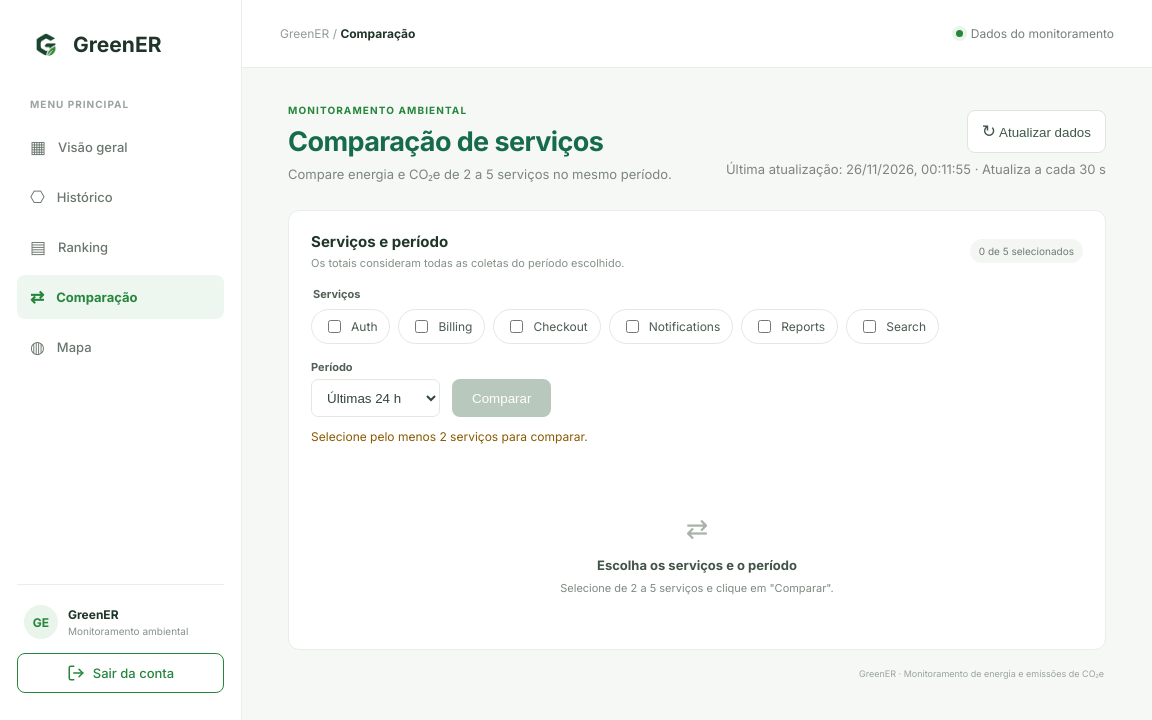
Test case: mostra os totais lado a lado e o aviso de serviço sem dados
What coordinates should you click on to do the following:
click the checkbox labelled "Auth"
I would click on:
 (335, 326)
Its box is [328,320,341,333].
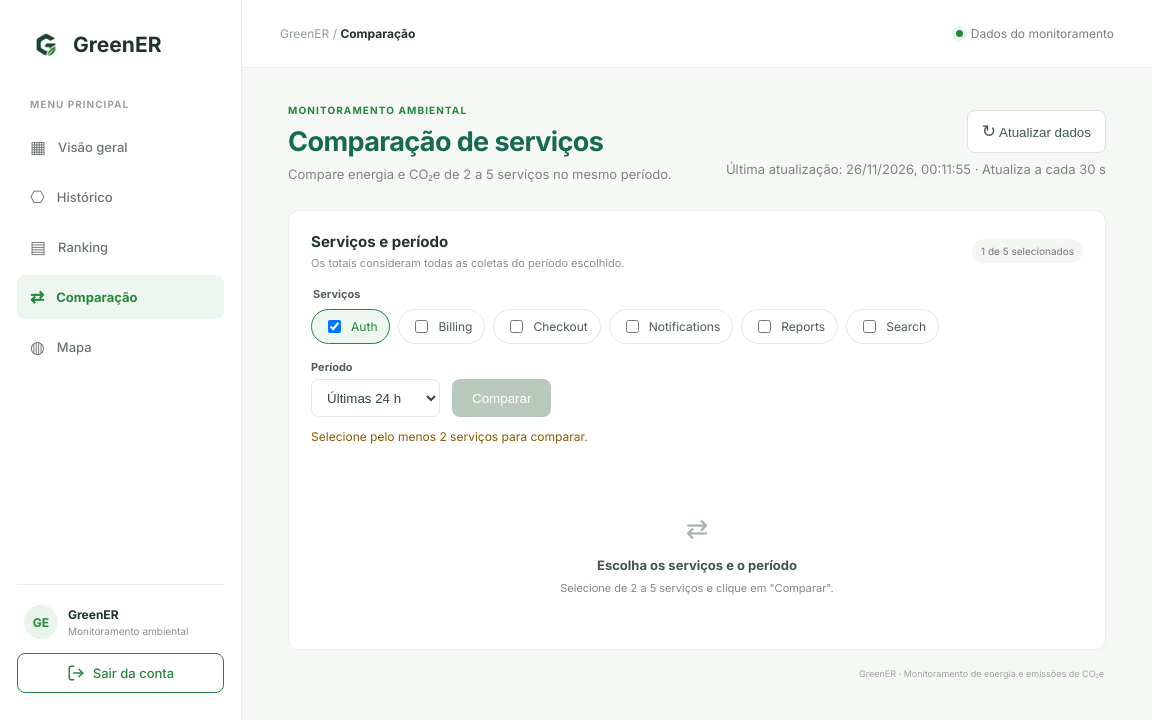
What coordinates should you click on to do the following:
click the checkbox labelled "Billing"
I would click on:
 (422, 326)
Its box is [416,320,428,333].
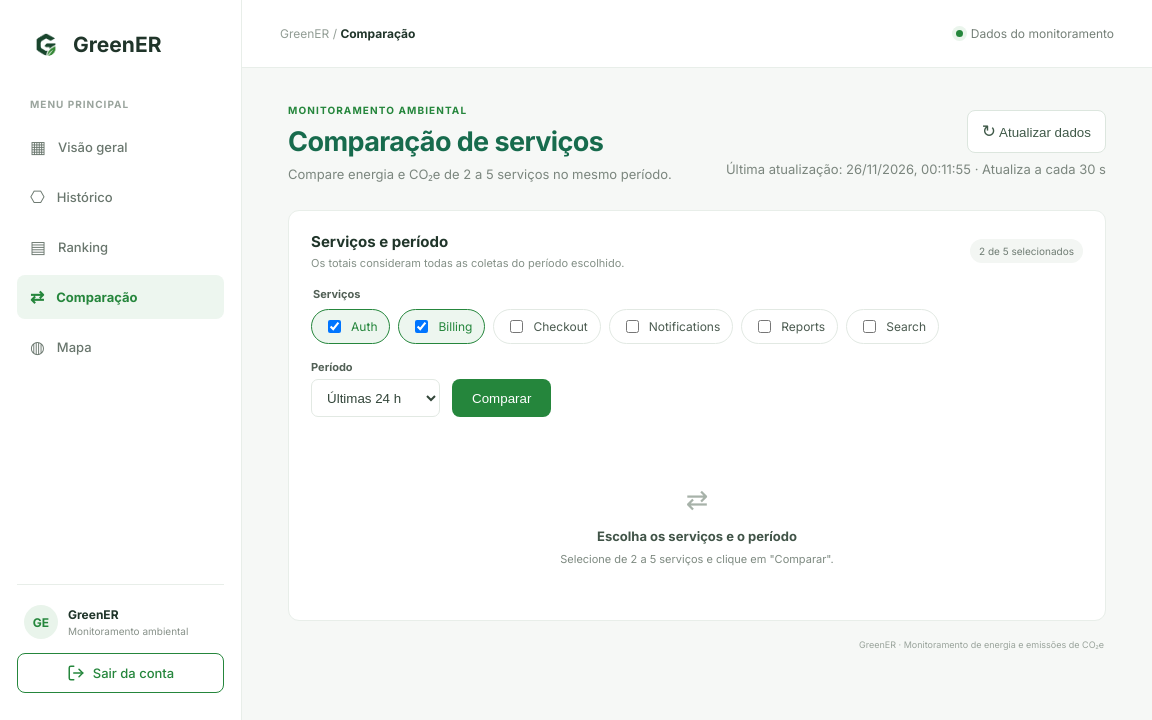
What coordinates should you click on to do the following:
click the button "Comparar"
I would click on:
 (502, 398)
Its box is [452,379,551,417].
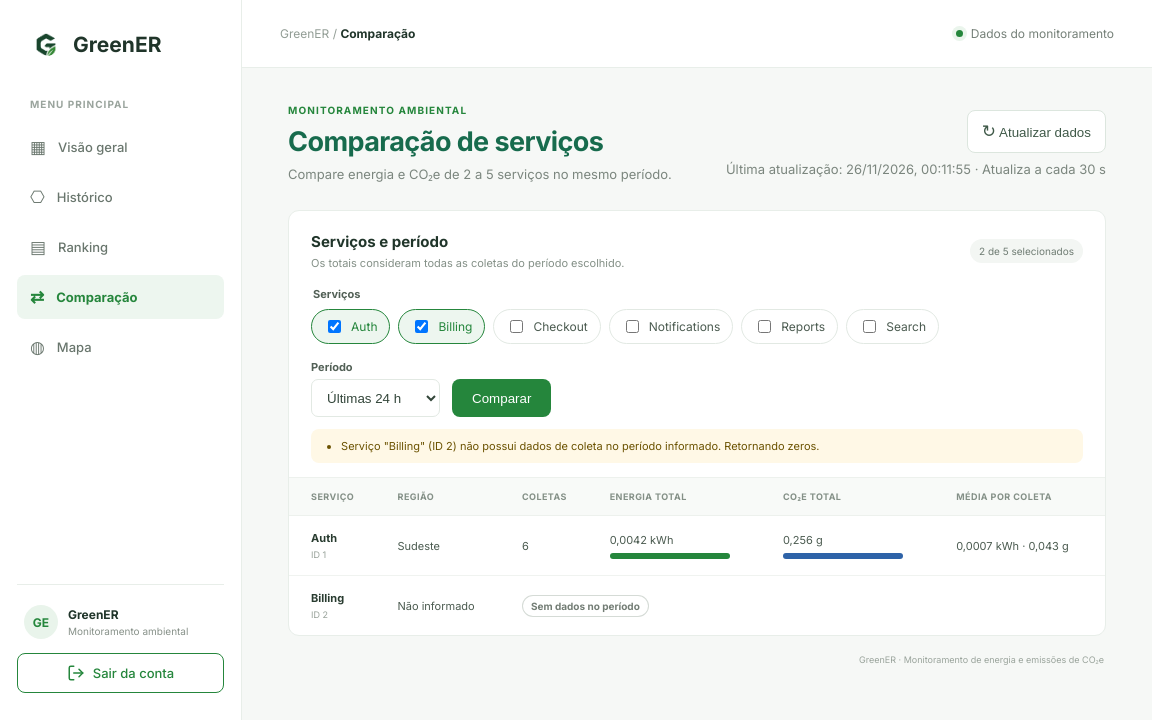
Check: the text "0,0042 kWh" is shown, box [610,532,673,546]
Check: the text "Sem dados no período" is shown, box [522,594,649,616]
Check: the list item "não possui dados de coleta" is shown, box [341,439,820,453]
